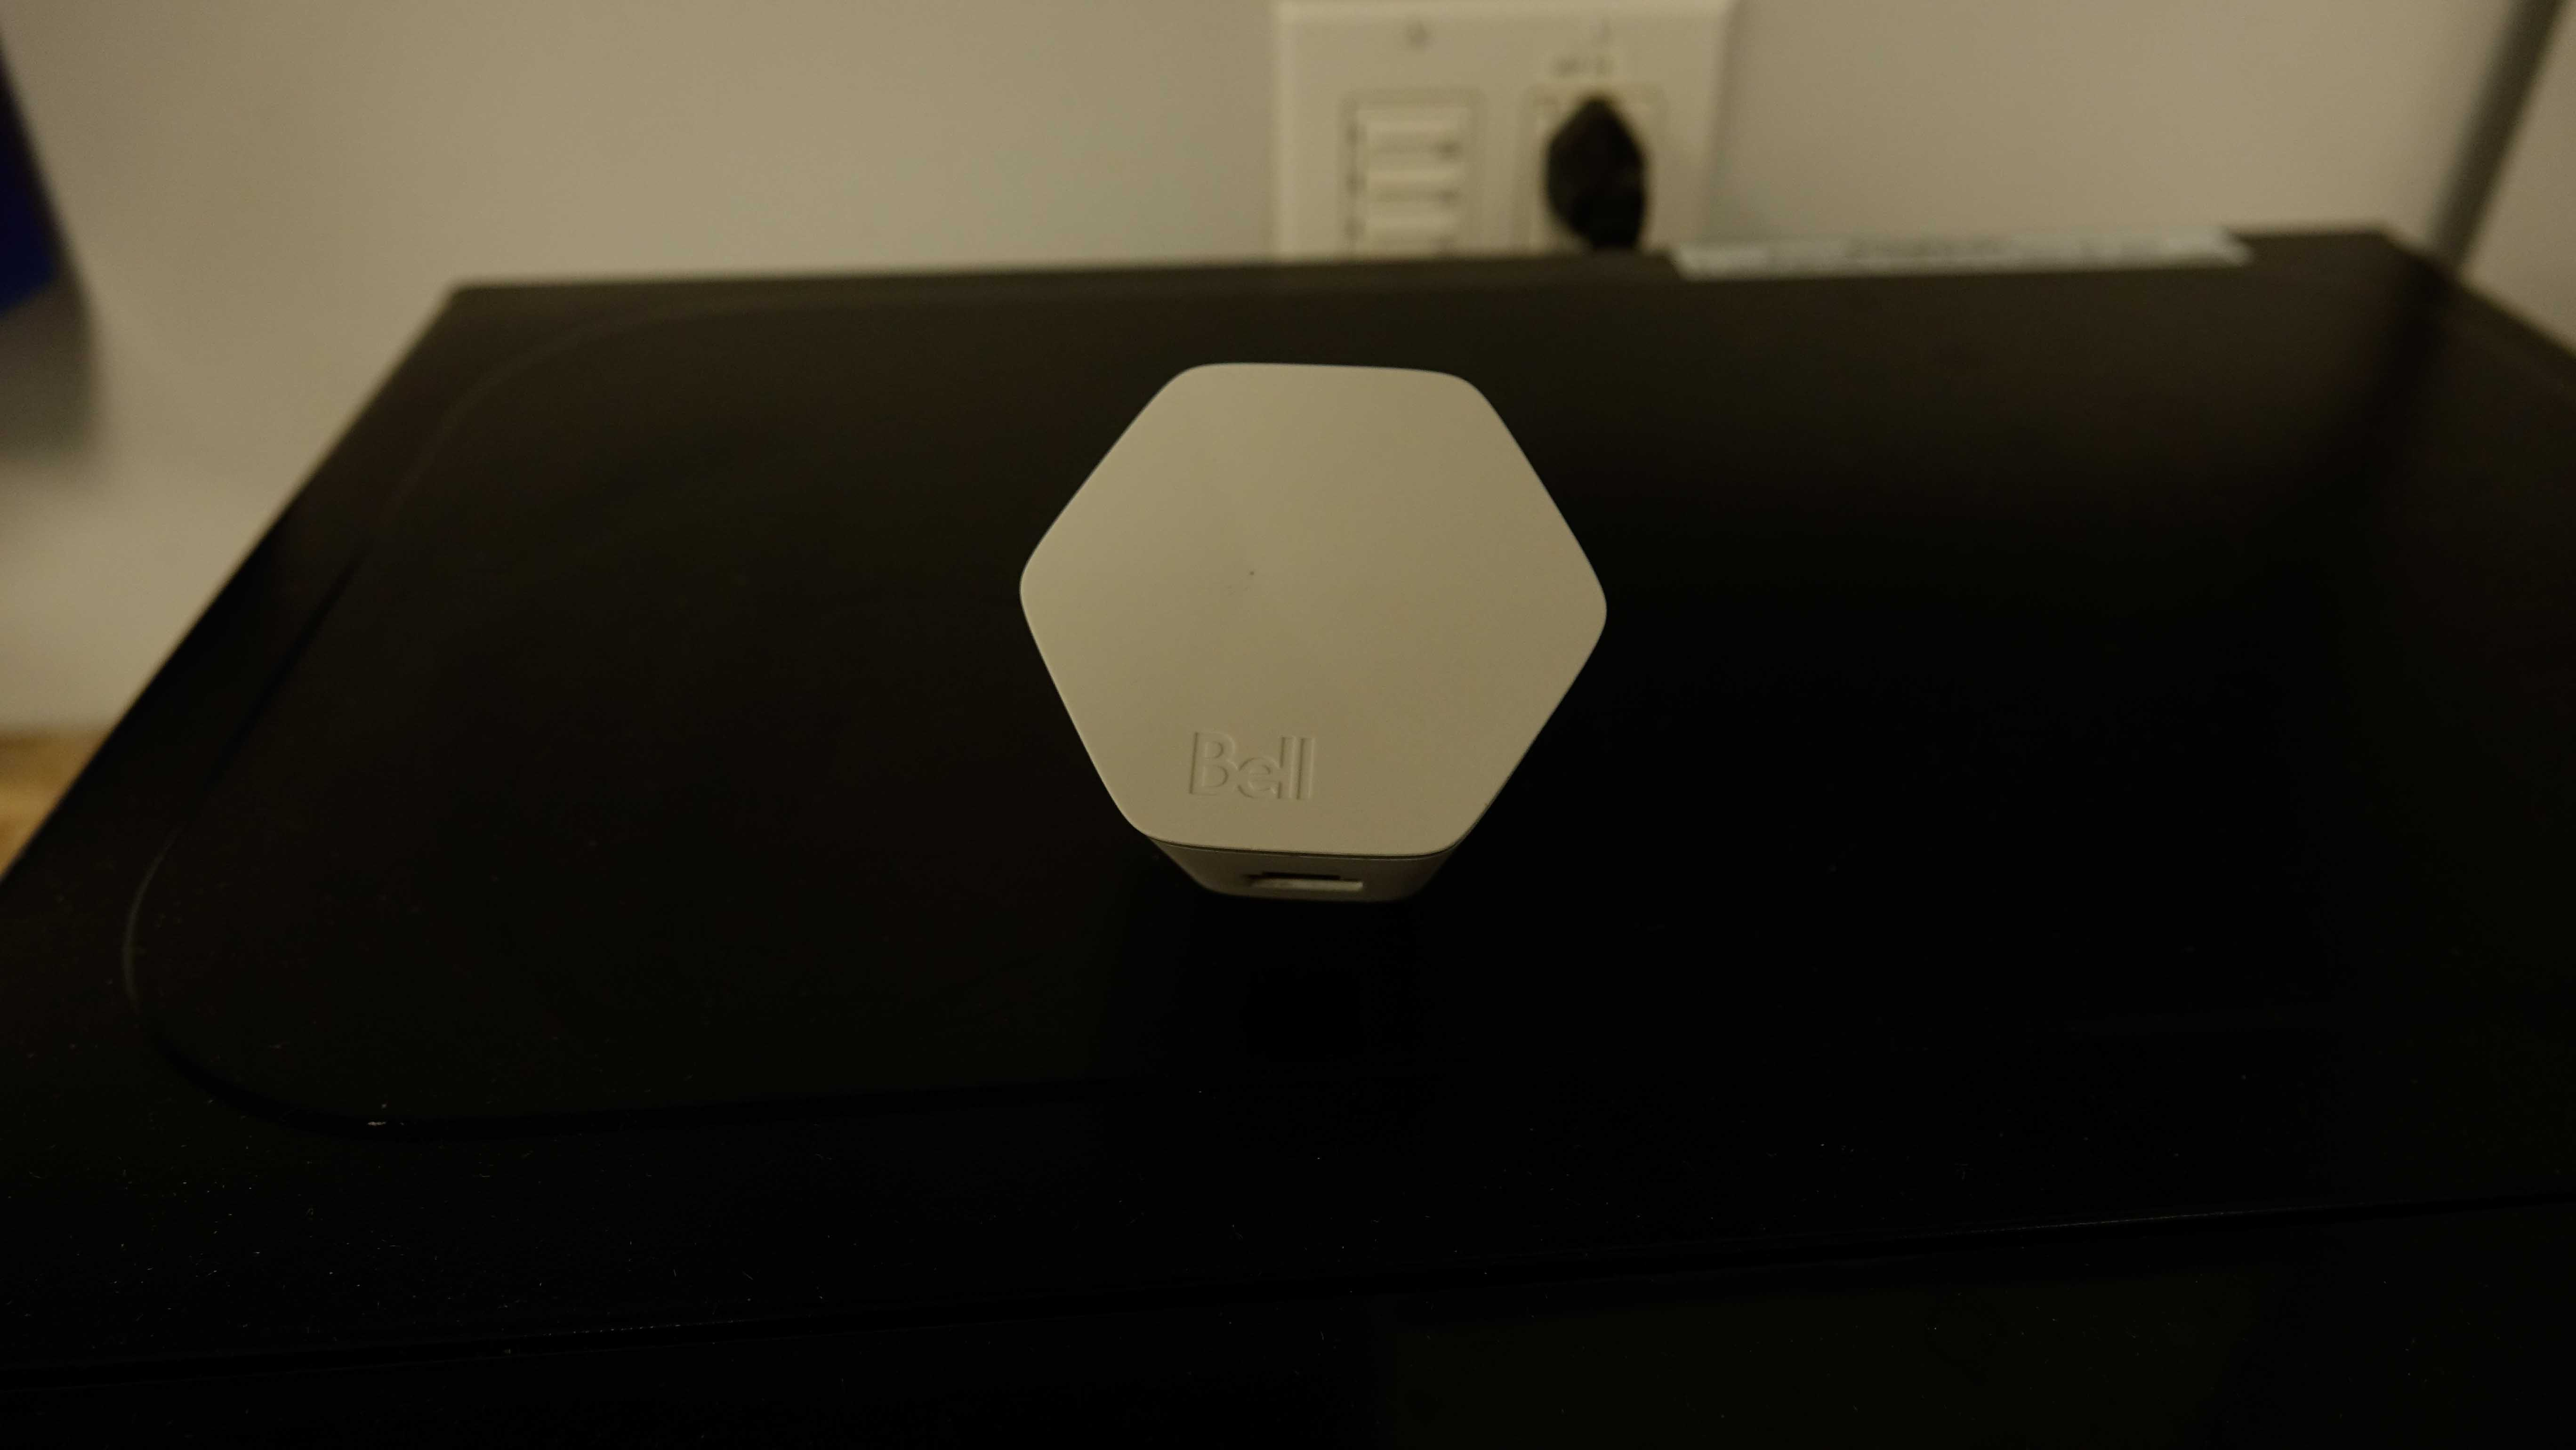pod: (1014, 343, 1629, 914)
